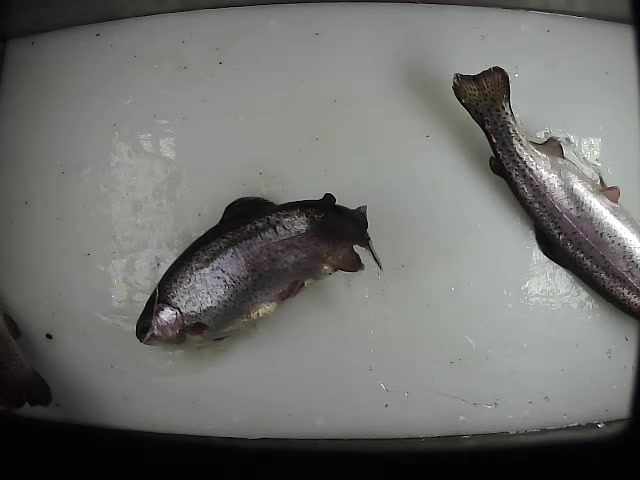fish: (450, 64, 640, 320), (131, 190, 385, 351)
